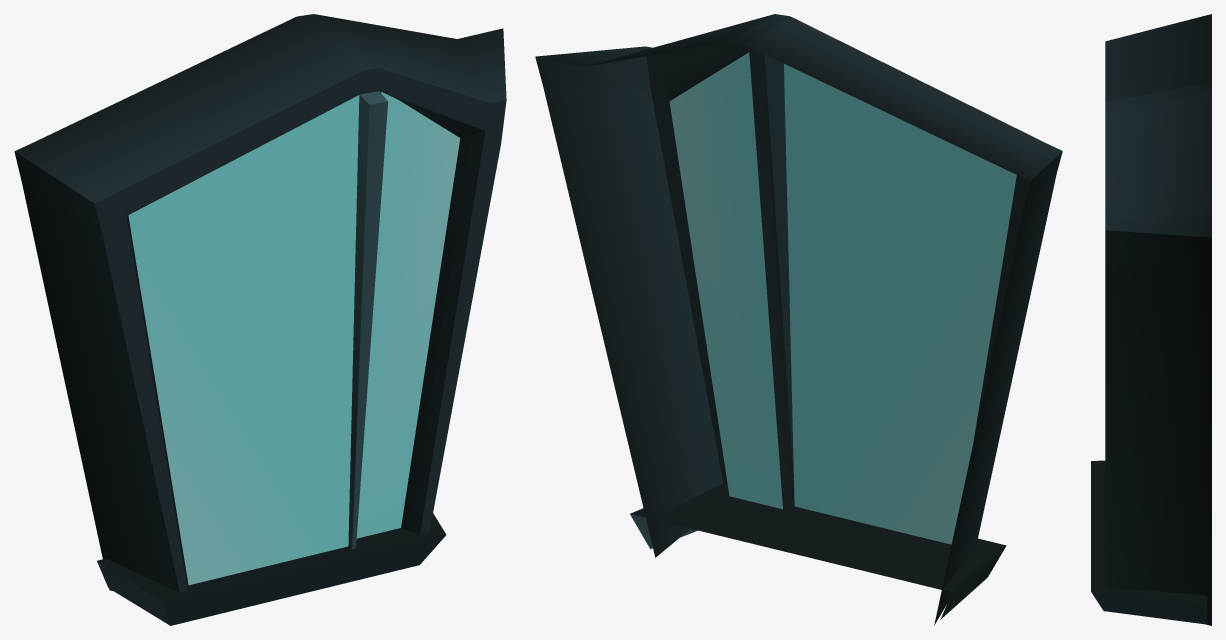
File: c_house_door_slide_aa.fbx
The picture shows the model from 3 angles, left to right: view 1: azimuth 30°, elevation 25°; view 2: azimuth 150°, elevation 25°; view 3: azimuth 270°, elevation 25°; orthographic projection. The views are drawn at different scales.
Parts seen in each view (by area): view 1: c_house_door_slide_aa; view 2: c_house_door_slide_aa; view 3: c_house_door_slide_aa.
Boxes of the visible parts, x1,y1,x2,y2 form: c_house_door_slide_aa: [14, 14, 506, 625]; c_house_door_slide_aa: [535, 14, 1062, 625]; c_house_door_slide_aa: [1091, 14, 1211, 625].
Bounding box in the file's own units: 2.48 × 2.56 × 0.5579.
